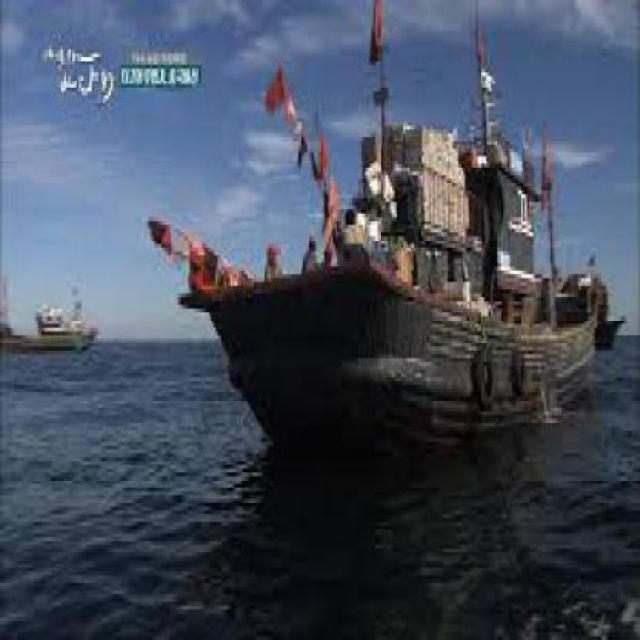fish-b: (148, 1, 632, 470)
